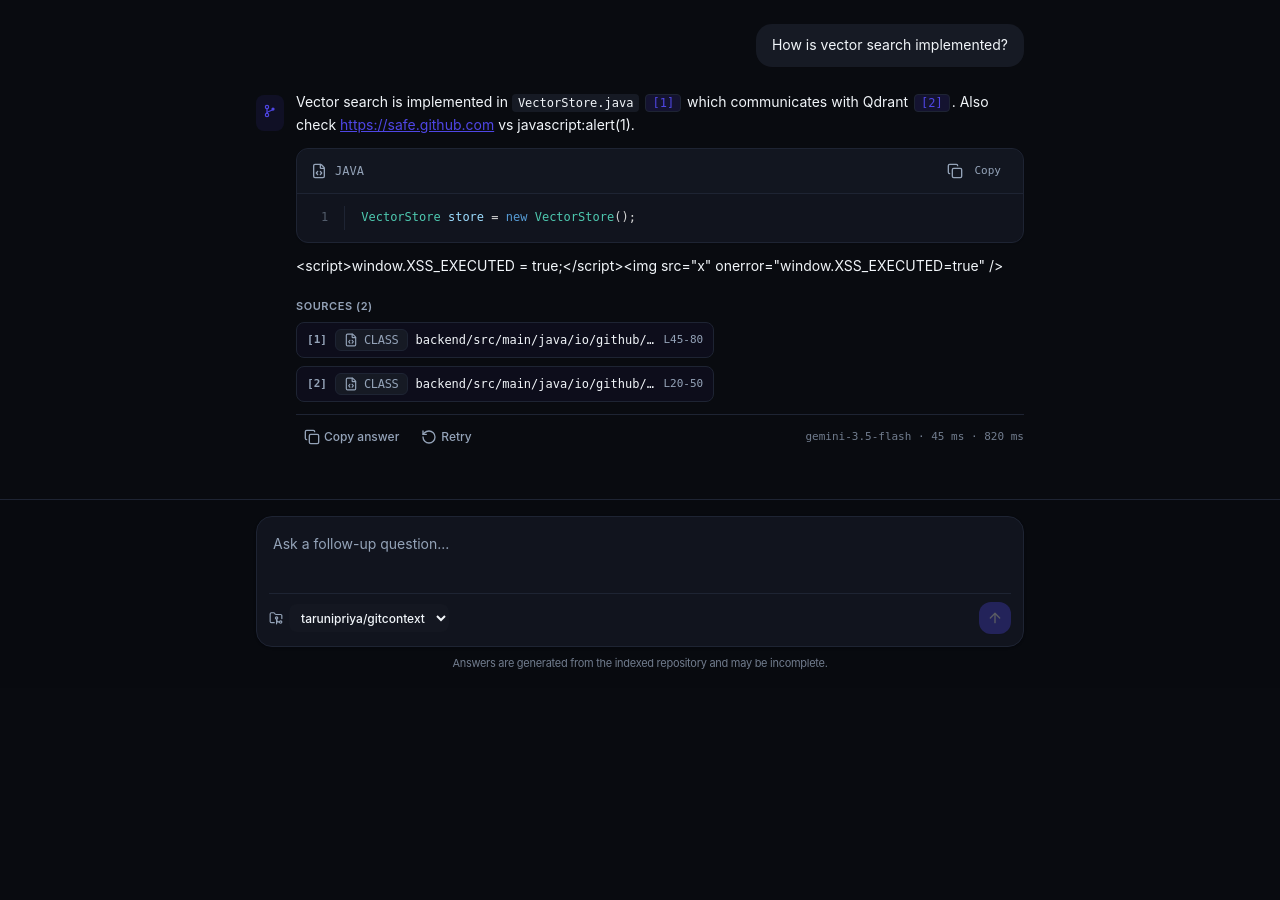
it: ConversationView Component › clicking a source card opens the right-side source panel Sheet
Click the list item with test id "source-card-2": [505, 384] box top-left (296, 366), bottom-right (714, 402)
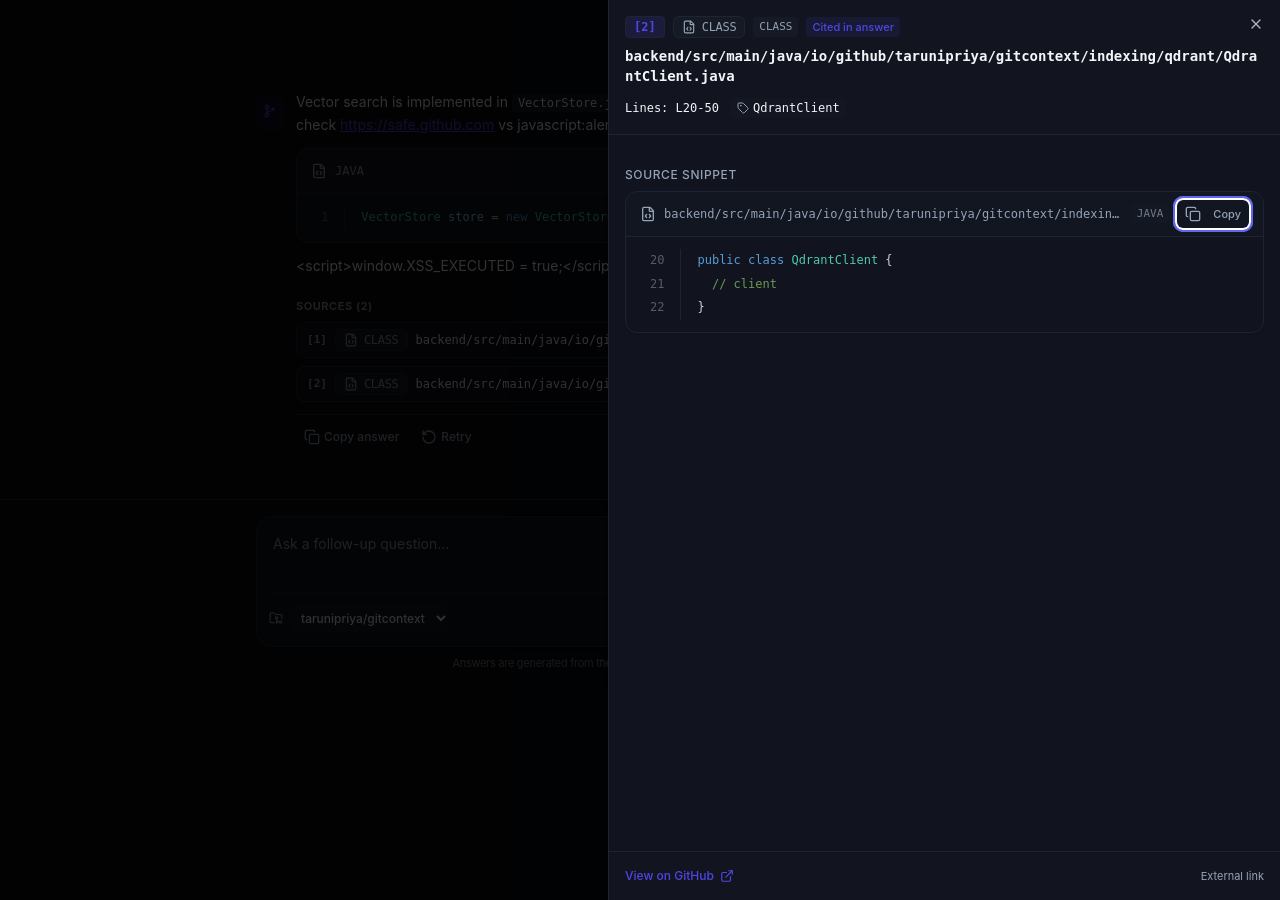
Now the dialog with test id "source-panel" is shown, box top-left (608, 0), bottom-right (1279, 899)
Now the heading with test id "source-panel-path" shows "backend/src/main/java/io/github/tarunipriya/gitcontext/indexing/qdrant/QdrantClient.java", box top-left (625, 48), bottom-right (1257, 84)
Now the text with test id "source-panel-lines" reads "Lines: L20-50", box top-left (625, 100), bottom-right (719, 116)
